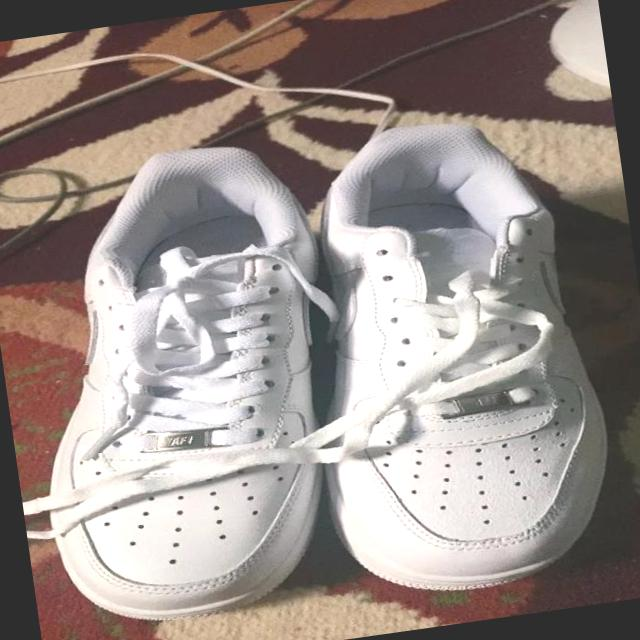nike_fake_airforce: (0, 133, 364, 640), (281, 99, 632, 608)
